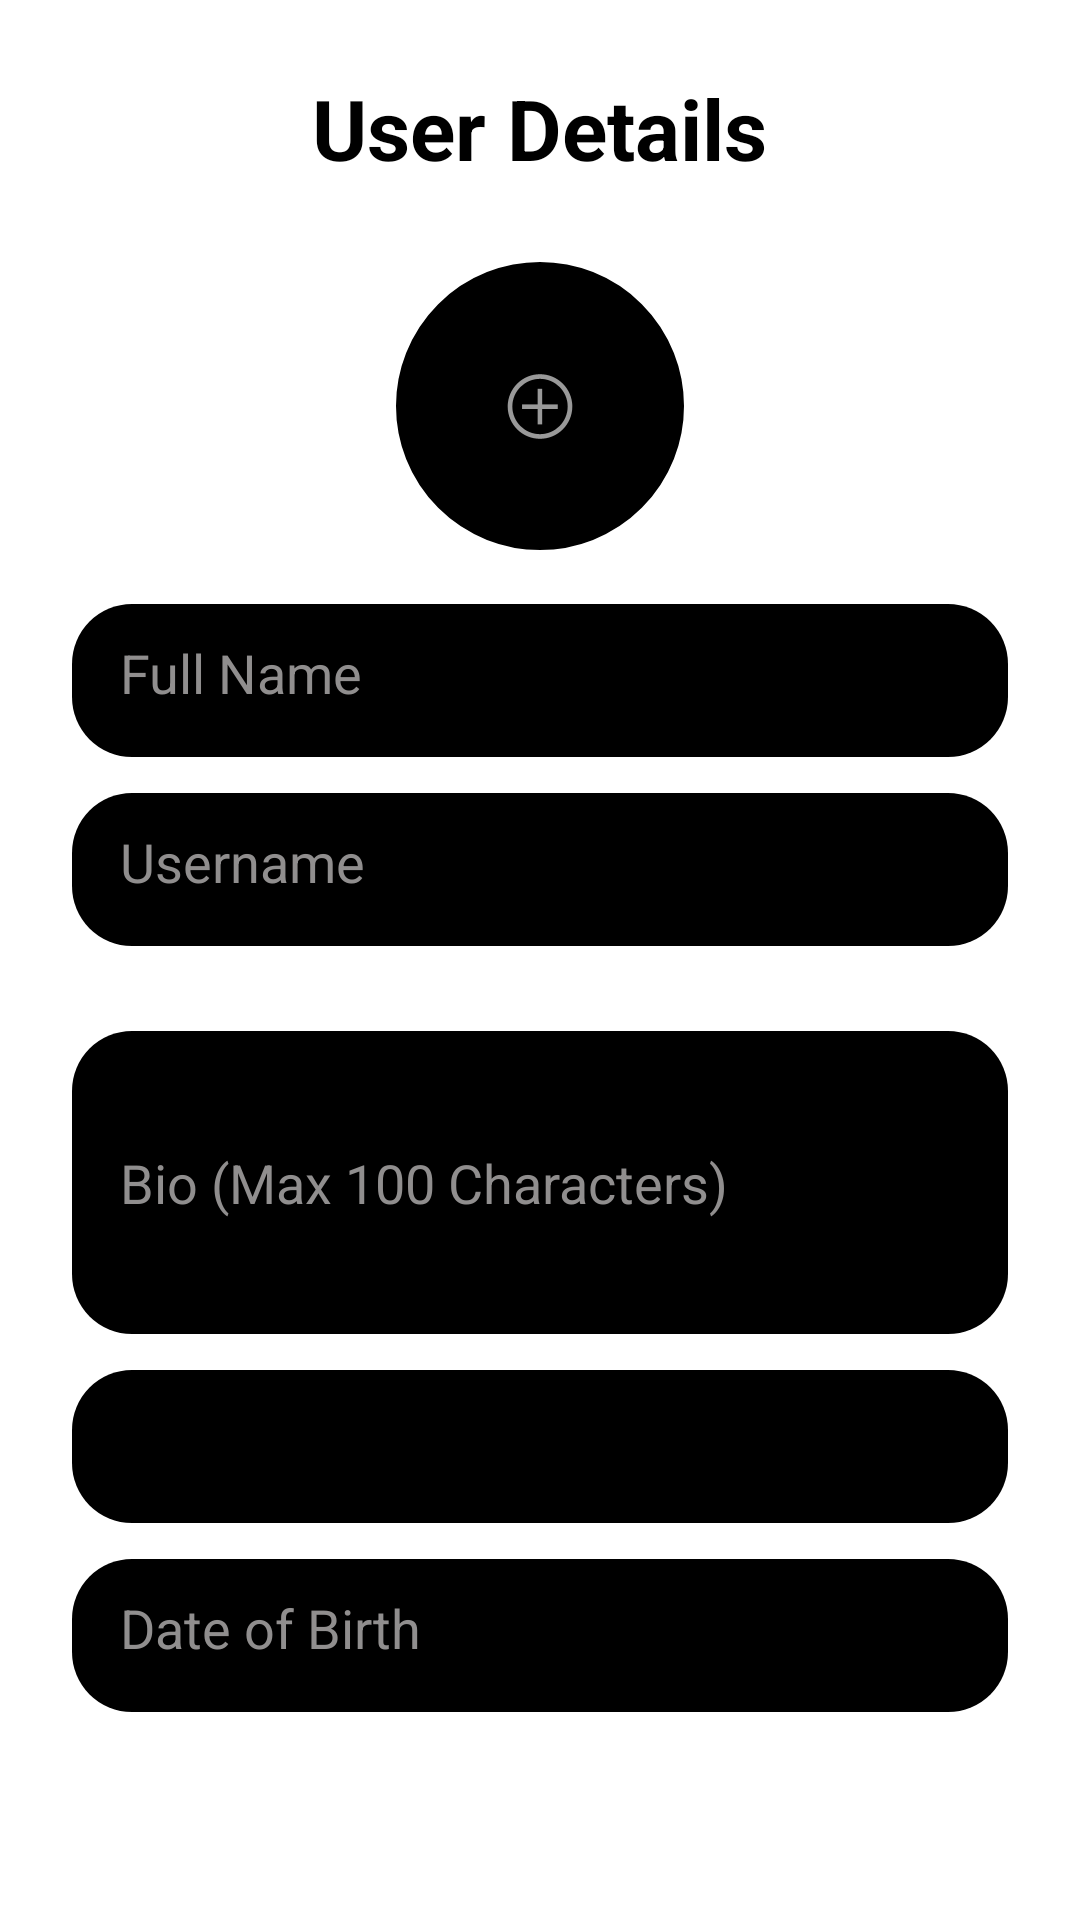

Icons on this 1080px×1920px Android screen, each with the point to tap as point (x, y):
add: point (540, 406)
